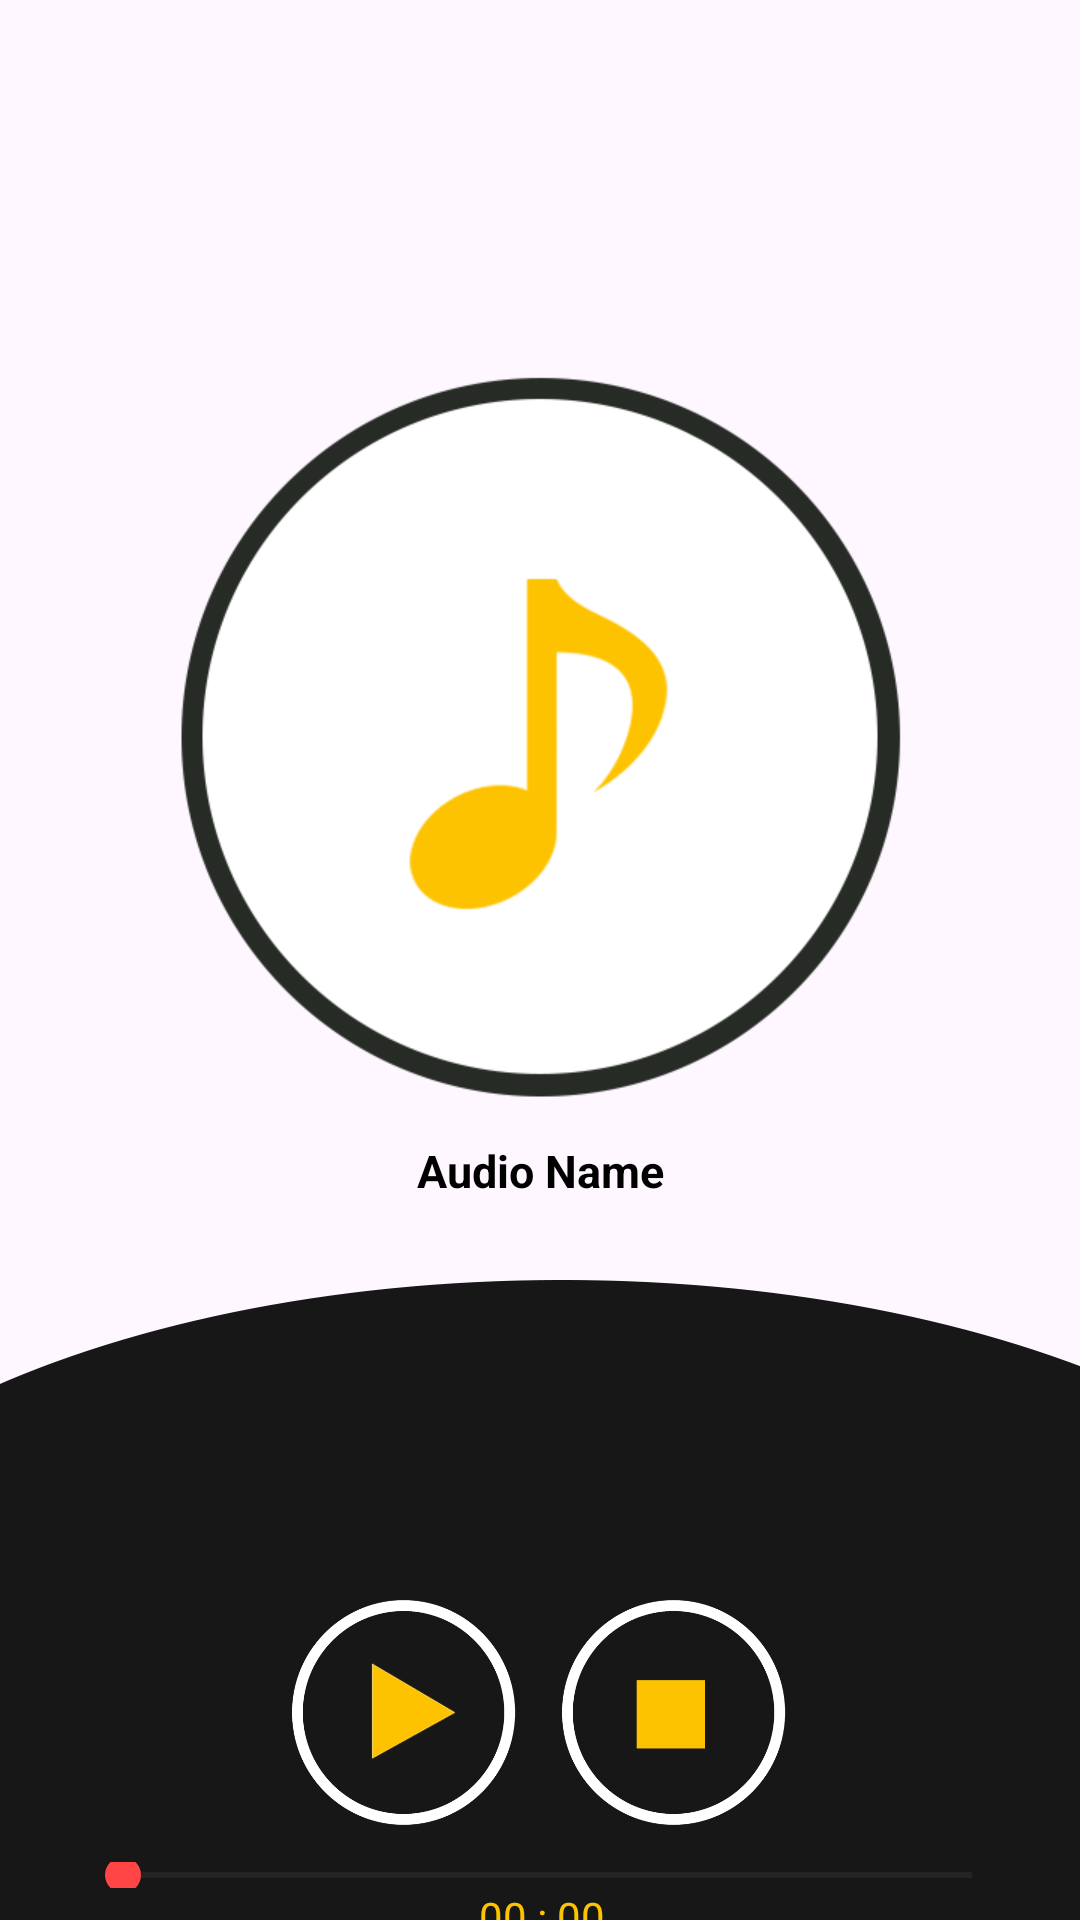

Where icons sit on this 1080 × 1920 app screen, as (x1, y1, x2, y2):
play: (292, 1600, 516, 1825)
stop: (562, 1600, 786, 1825)
